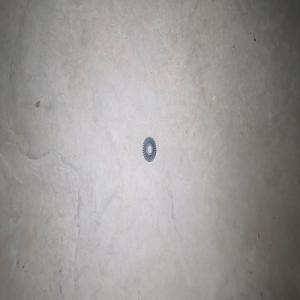Washer: (142, 136, 156, 161)
